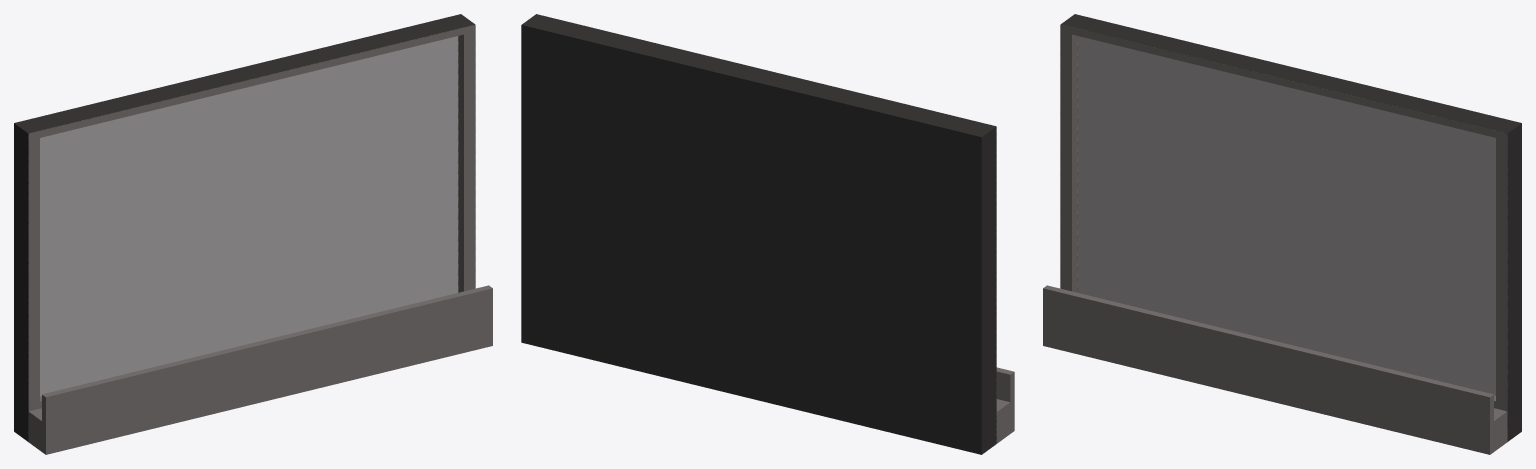
File: board.fbx
The picture shows the model from 3 angles, left to right: view 1: azimuth 30°, elevation 25°; view 2: azimuth 150°, elevation 25°; view 3: azimuth 330°, elevation 25°; orthographic projection. The views are drawn at different scales.
Visible parts, largest first — view 1: pizarra; view 2: pizarra; view 3: pizarra.
Boxes of the visible parts, bbox=[...] form: pizarra: bbox=[14, 14, 492, 454]; pizarra: bbox=[521, 14, 1014, 454]; pizarra: bbox=[1043, 14, 1521, 454].
Bounding box in the file's own units: 0.9329 × 0.6153 × 0.1151.
